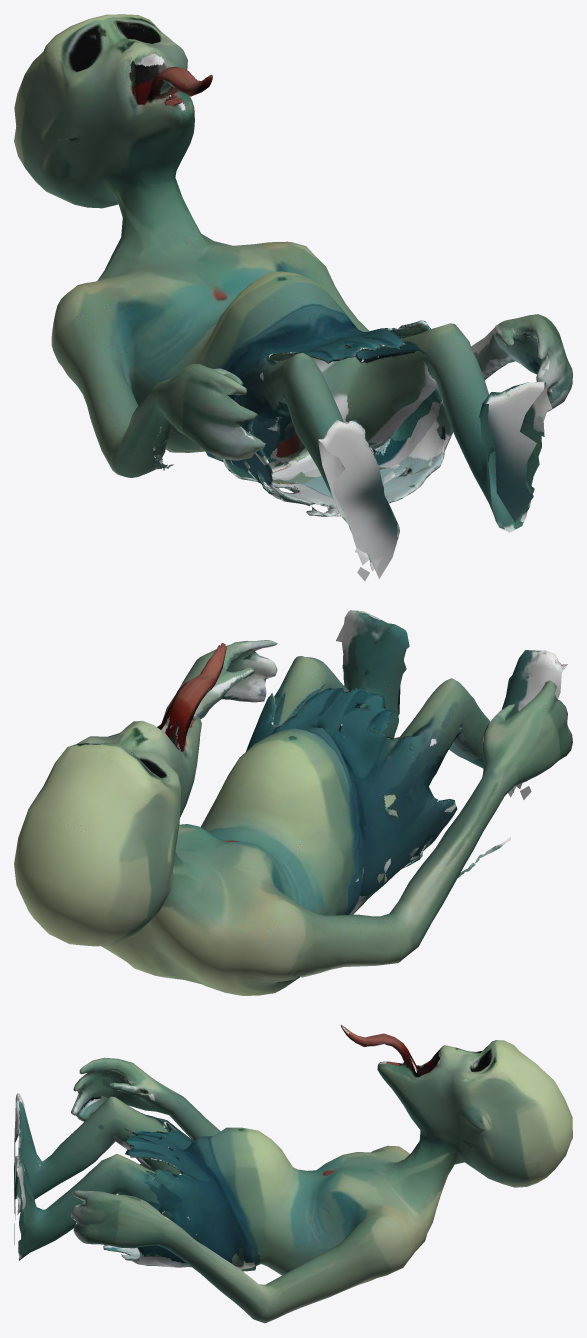
File: Gaki.glb
3 renders of one model, top to bottom at view 1: azimuth 30°, elevation 25°; view 2: azimuth 150°, elevation 25°; view 3: azimuth 270°, elevation 25°, orthographic. The views are drawn at different scales.
Parts seen in each view (by area): view 1: Retopo_gaki.002; view 2: Retopo_gaki.002; view 3: Retopo_gaki.002.
Part boxes in pixels (x1=…): Retopo_gaki.002: x1=14, y1=14, x2=572, y2=580; Retopo_gaki.002: x1=14, y1=610, x2=572, y2=995; Retopo_gaki.002: x1=14, y1=1025, x2=572, y2=1323.
Size of the model in its own units: 1.08 by 0.9493 by 1.95.
1 material, 1 textured.
